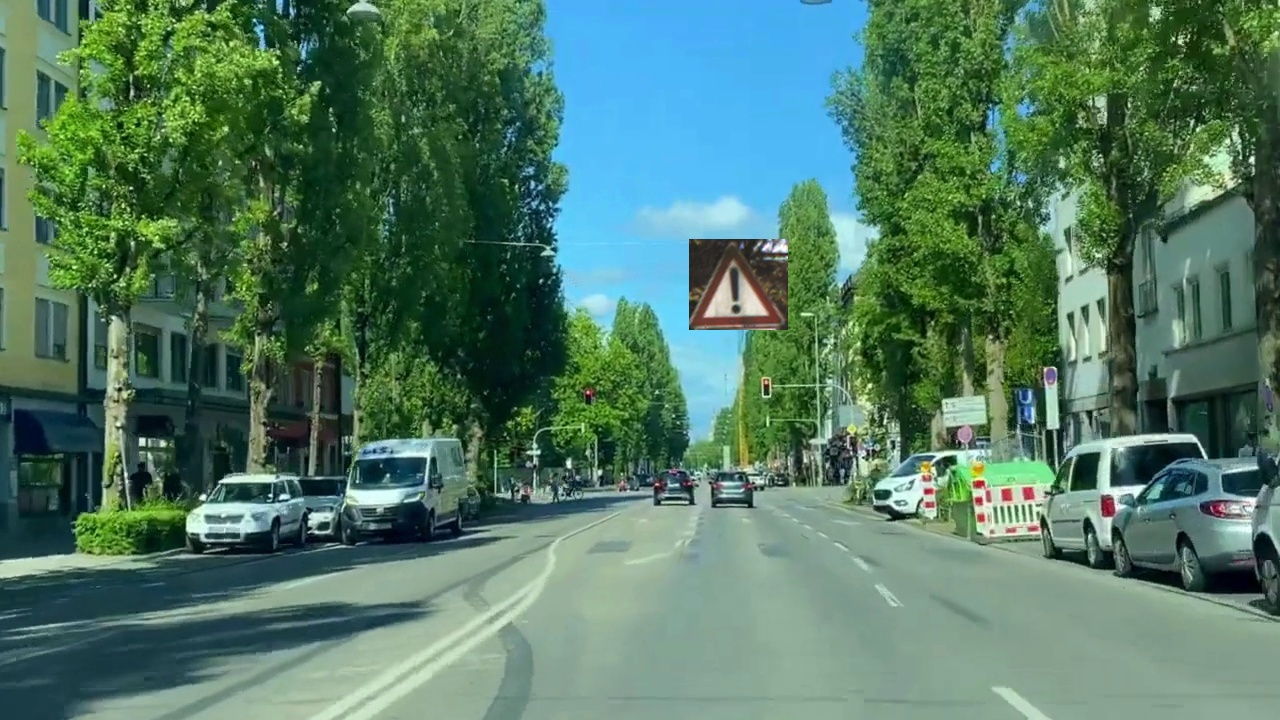Caution: (689, 239, 788, 330)
